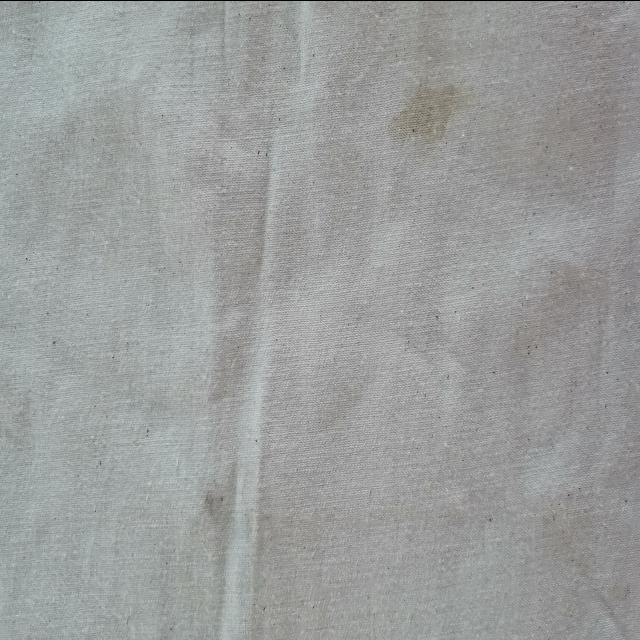taaaches: (390, 66, 470, 174), (201, 452, 249, 563)
